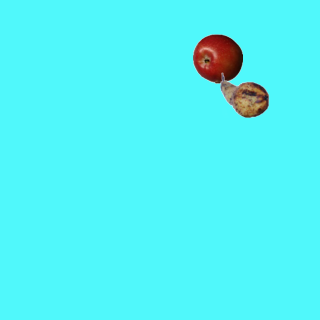Apple Braeburn: (192, 33, 242, 83)
Pear Abate: (219, 70, 269, 120)
